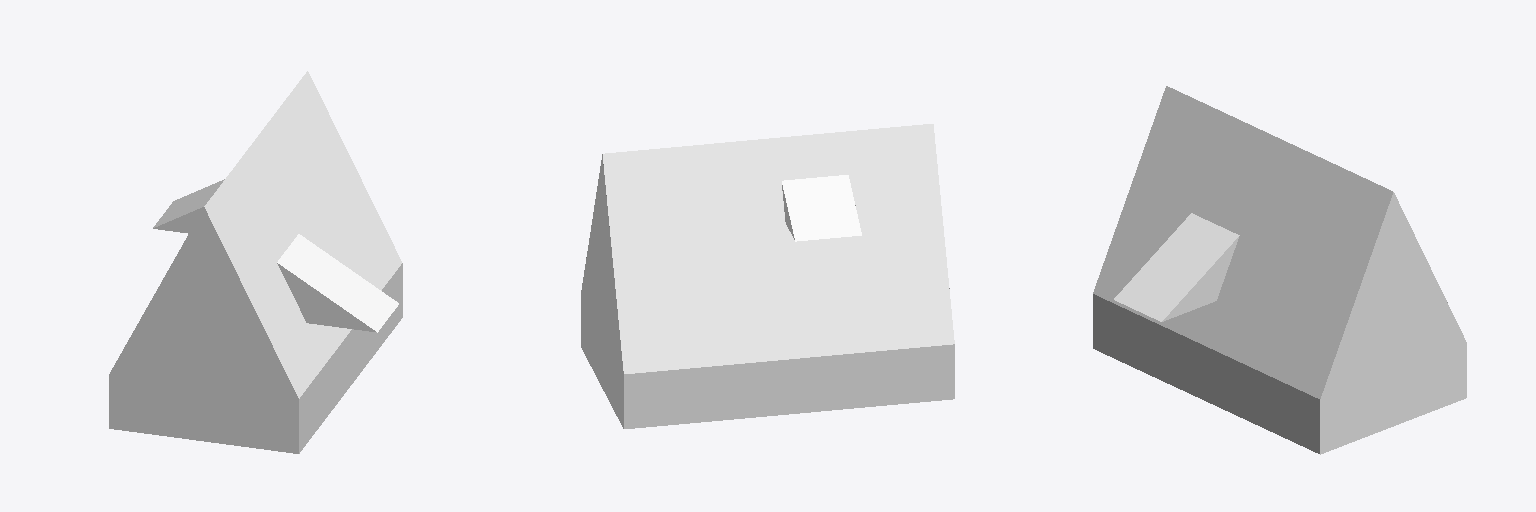
Rendered from house_Shape 291.obj.
The picture shows the model from 3 angles: view 1: azimuth 30°, elevation 25°; view 2: azimuth 150°, elevation 25°; view 3: azimuth 270°, elevation 25°; orthographic projection.
Parts seen in each view (by area): view 1: CityEngineMaterial_8, CityEngineMaterial_10, CityEngineMaterial_69, CityEngineMaterial_11; view 2: CityEngineMaterial_8, CityEngineMaterial_11, CityEngineMaterial_10, CityEngineMaterial_69; view 3: CityEngineMaterial_8, CityEngineMaterial_10, CityEngineMaterial_69.
Part boxes in pixels (x1,y1,x2,y2): CityEngineMaterial_8: (153, 71, 401, 398); CityEngineMaterial_10: (109, 263, 402, 453); CityEngineMaterial_69: (141, 207, 266, 333); CityEngineMaterial_11: (153, 207, 203, 233); CityEngineMaterial_8: (586, 124, 954, 373); CityEngineMaterial_11: (624, 185, 954, 428); CityEngineMaterial_10: (581, 246, 949, 428); CityEngineMaterial_69: (588, 154, 616, 299); CityEngineMaterial_8: (1093, 86, 1447, 398); CityEngineMaterial_10: (1093, 237, 1466, 454); CityEngineMaterial_69: (1345, 192, 1441, 329).
Bounding box in the file's own units: 13.6 × 9.15 × 13.22.